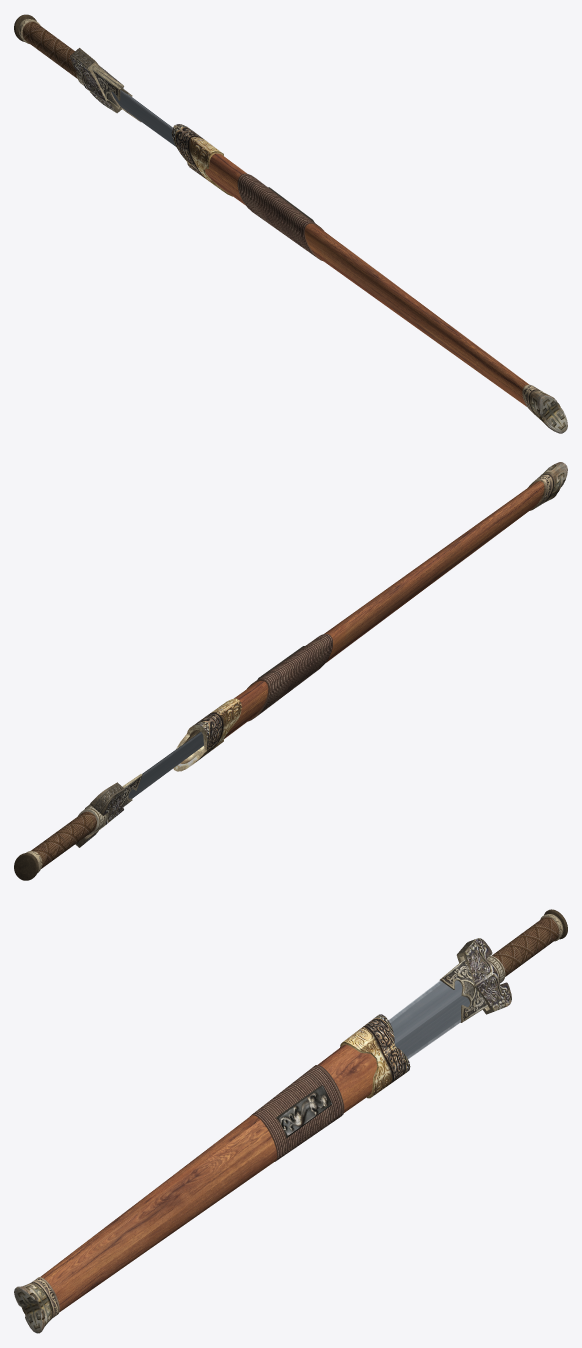
File: Chinese_Sword_1.fbx
3 renders of one model, top to bottom at view 1: azimuth 30°, elevation 25°; view 2: azimuth 150°, elevation 25°; view 3: azimuth 330°, elevation 25°, orthographic.
Visible parts, largest first — view 1: Fourreau_OBJECT; view 2: Fourreau_OBJECT; view 3: Fourreau_OBJECT.
Boxes of the visible parts, x1,y1,x2,y2 form: Fourreau_OBJECT: [14, 14, 567, 433]; Fourreau_OBJECT: [14, 462, 567, 880]; Fourreau_OBJECT: [14, 909, 567, 1333].
Bounding box in the file's own units: 89.67 × 132 × 2000.
